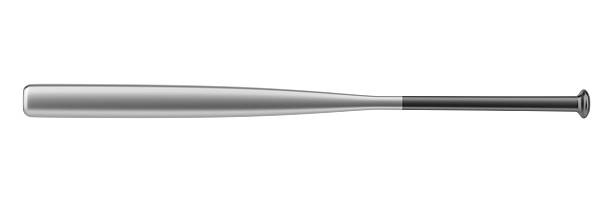bita: (15, 82, 589, 118)
